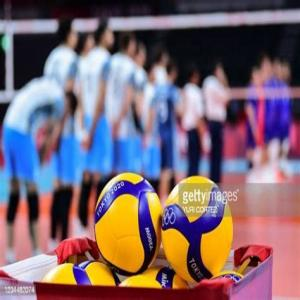Volley: (163, 175, 234, 284), (93, 172, 162, 276)
